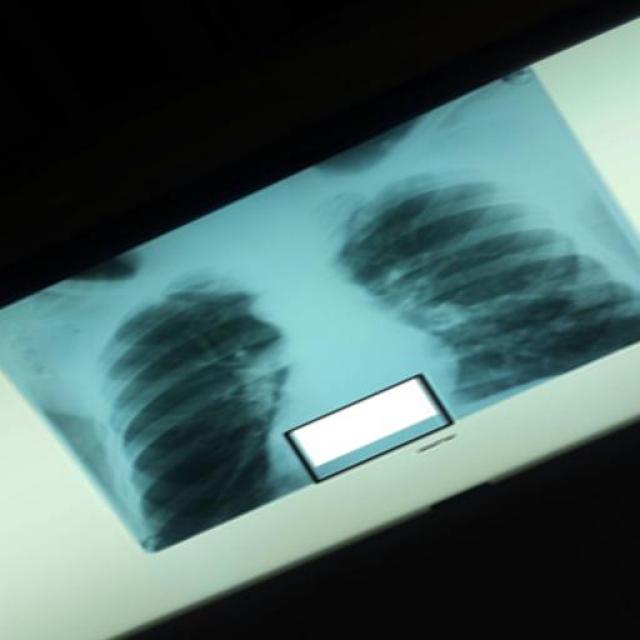tuberculosis: (0, 58, 640, 553)
